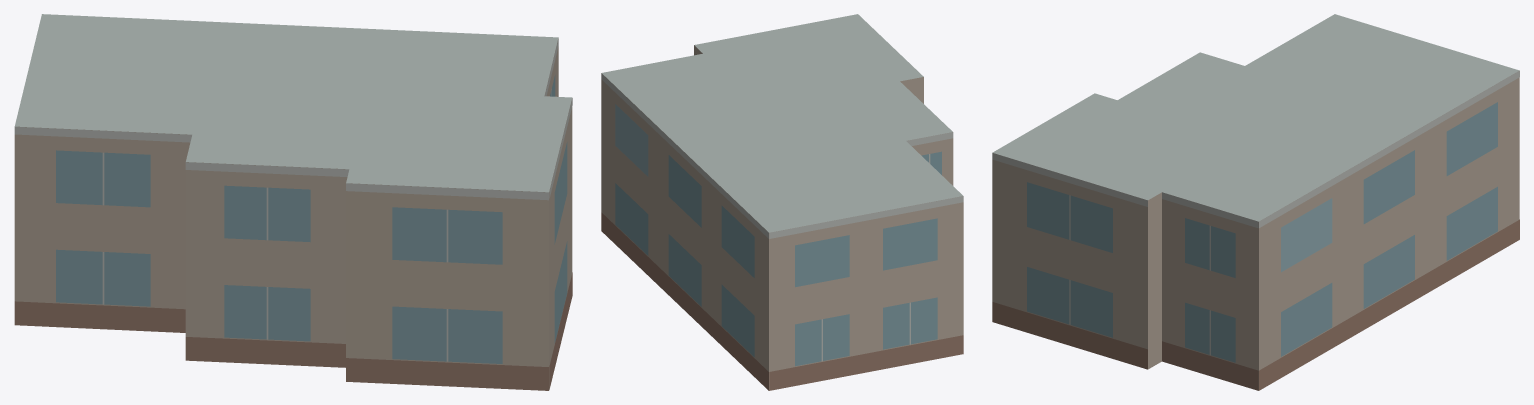
Rendered from survey-upis-32779230.glb.
The picture shows the model from 3 angles, left to right: view 1: azimuth 30°, elevation 25°; view 2: azimuth 150°, elevation 25°; view 3: azimuth 270°, elevation 25°; orthographic projection. The views are drawn at different scales.
Visible parts, largest first — view 1: survey-upis-32779230.tmp; view 2: survey-upis-32779230.tmp; view 3: survey-upis-32779230.tmp.
Boxes of the visible parts, x1,y1,x2,y2 form: survey-upis-32779230.tmp: [14, 14, 572, 390]; survey-upis-32779230.tmp: [601, 14, 963, 390]; survey-upis-32779230.tmp: [992, 14, 1519, 390].
Bounding box in the file's own units: 16.06 × 6.1 × 17.24.
